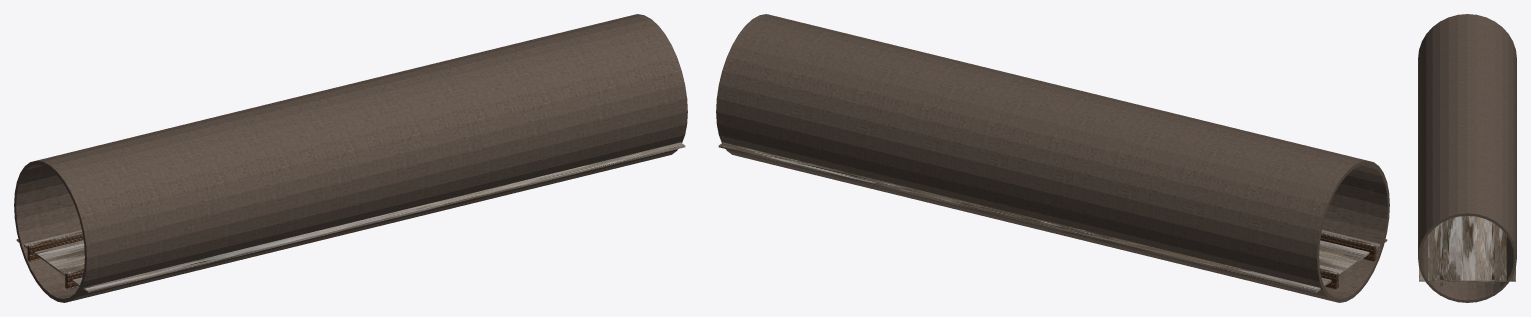
The model's file is Tunnel.glb.
3 views of the same model, side by side, from view 1: azimuth 30°, elevation 25°; view 2: azimuth 150°, elevation 25°; view 3: azimuth 270°, elevation 25° (orthographic). The views are drawn at different scales.
Parts seen in each view (by area): view 1: TunnelWalls, GravelFloor, Rail2; view 2: TunnelWalls, GravelFloor, Rail1; view 3: TunnelWalls, GravelFloor, Rail1, Rail2.
Boxes of the visible parts, x1,y1,x2,y2 form: TunnelWalls: (14,14,687,302); GravelFloor: (16,142,685,292); Rail2: (27,232,83,261); TunnelWalls: (716,14,1389,302); GravelFloor: (718,142,1387,292); Rail1: (1320,232,1376,261); TunnelWalls: (1418,14,1516,302); GravelFloor: (1419,215,1515,281); Rail1: (1440,222,1442,285); Rail2: (1492,222,1494,285).
Bounding box in the file's own units: 36.75 × 7.68 × 7.68.
Materials: 3 (3 with a texture image).
